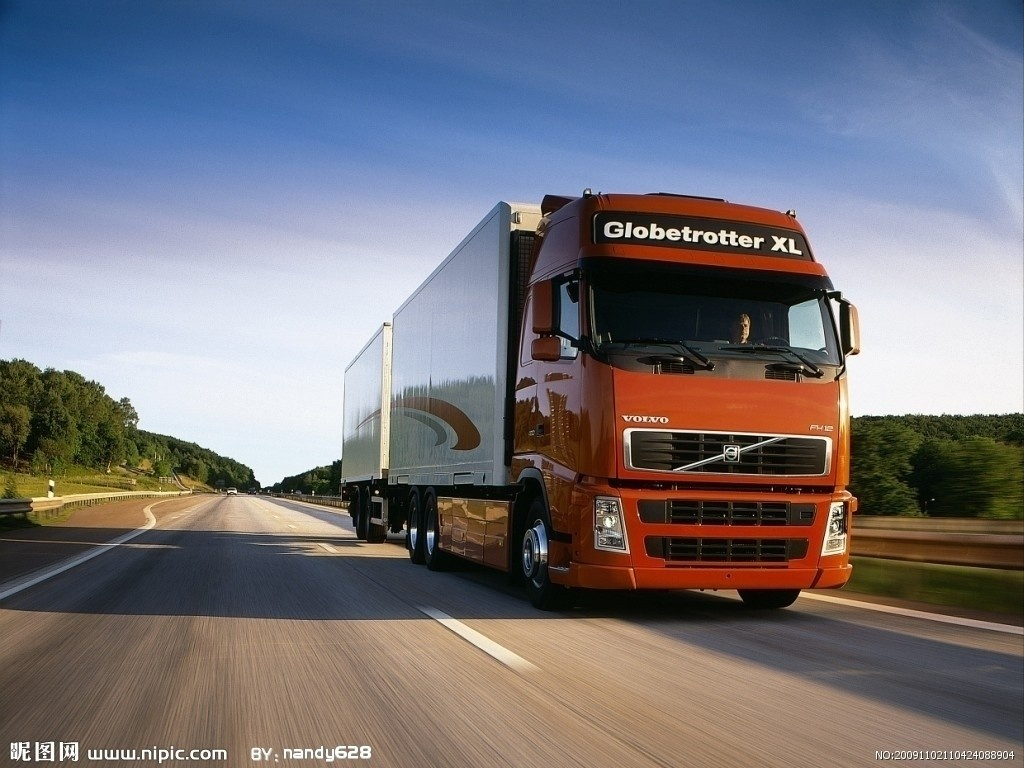heavy truck: (337, 193, 851, 624)
